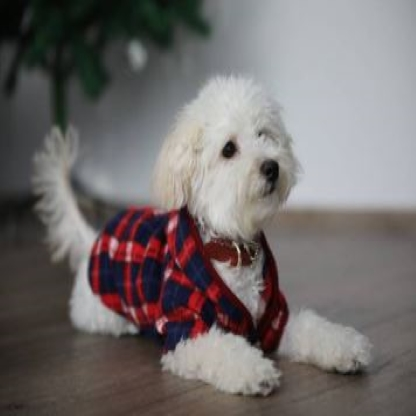maltese: (35, 71, 377, 387)
